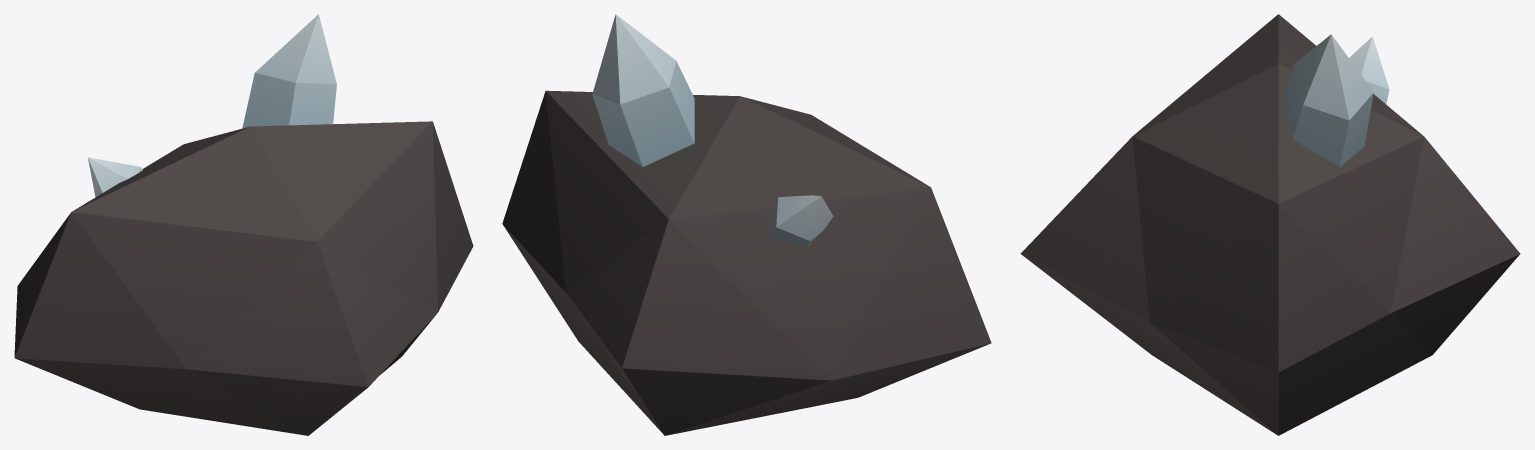
Rendered from east_cinder.glb.
3 renders of one model, left to right at view 1: azimuth 30°, elevation 25°; view 2: azimuth 150°, elevation 25°; view 3: azimuth 270°, elevation 25°, orthographic. The views are drawn at different scales.
Parts seen in each view (by area): view 1: east_cinder; view 2: east_cinder; view 3: east_cinder.
Part boxes in pixels (left/top/right/bottom): east_cinder: left=14, top=14, right=473, bottom=435; east_cinder: left=502, top=14, right=991, bottom=435; east_cinder: left=1020, top=14, right=1520, bottom=435.
Bounding box in the file's own units: 0.7445 × 0.5258 × 0.6436.
